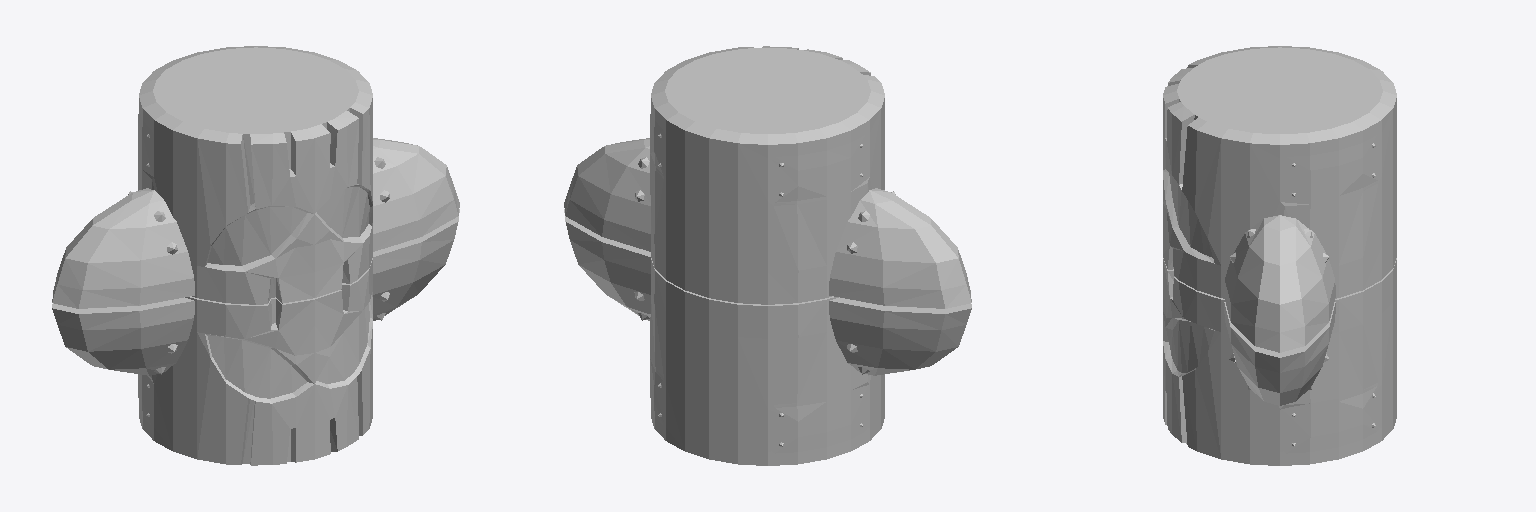
The model's file is Bar Waying.obj.
3 views of the same model, side by side, from view 1: azimuth 30°, elevation 25°; view 2: azimuth 150°, elevation 25°; view 3: azimuth 270°, elevation 25° (orthographic).
Visible parts, largest first — view 1: EM064_Bottom, EM064_Top; view 2: EM064_Bottom, EM064_Top; view 3: EM064_Bottom, EM064_Top.
Boxes of the visible parts, box(x1,y1,x2,y2) form: EM064_Bottom: box(52, 46, 459, 308); EM064_Top: box(52, 209, 459, 465); EM064_Bottom: box(564, 46, 971, 308); EM064_Top: box(564, 209, 971, 465); EM064_Bottom: box(1163, 46, 1396, 352); EM064_Top: box(1163, 258, 1396, 465).
Size of the model in its own units: 1.64 by 1.27 by 0.82.